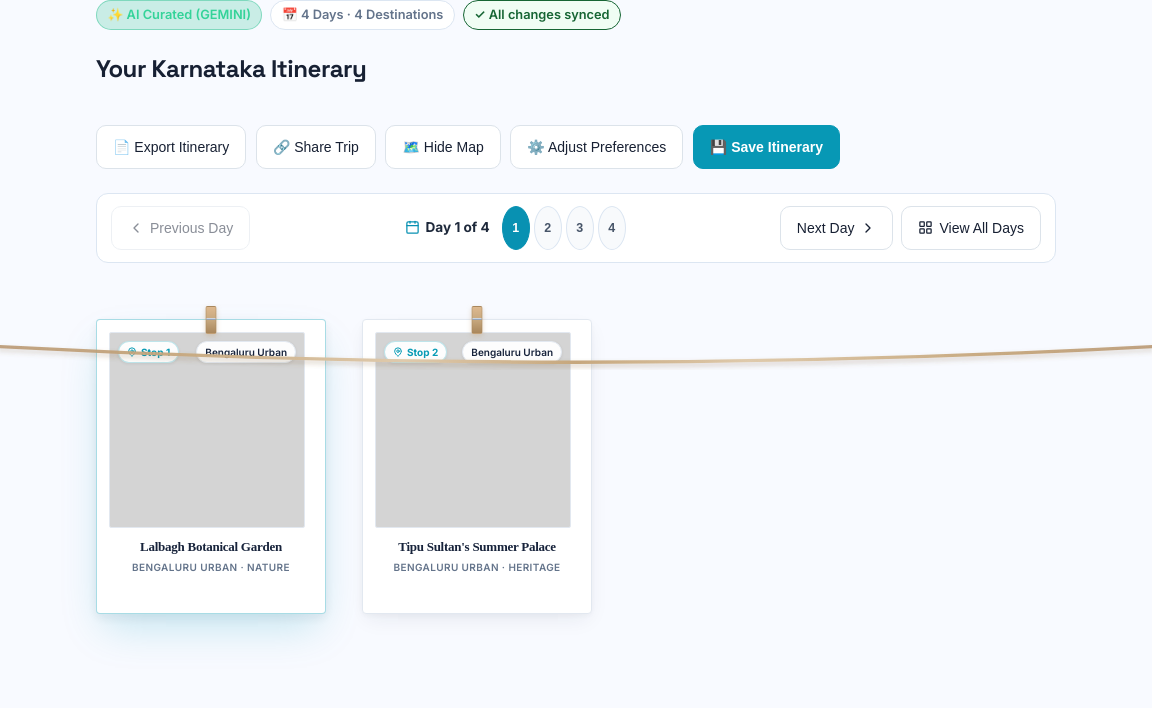
Test: Interactive Day-Wise Itinerary Redesign Experience › switches days using DayNavigation and dynamically updates carousel to show that day destinations
Expected: the button with test id "day-nav-prev-btn" is disabled, [111,206,250,250]
Expected: the heading "Lalbagh Botanical Garden" is shown, [140,539,282,554]
Switch to Day 2 using Next Day button
Click the button with test id "day-nav-next-btn": (837,228) [780,206,894,250]
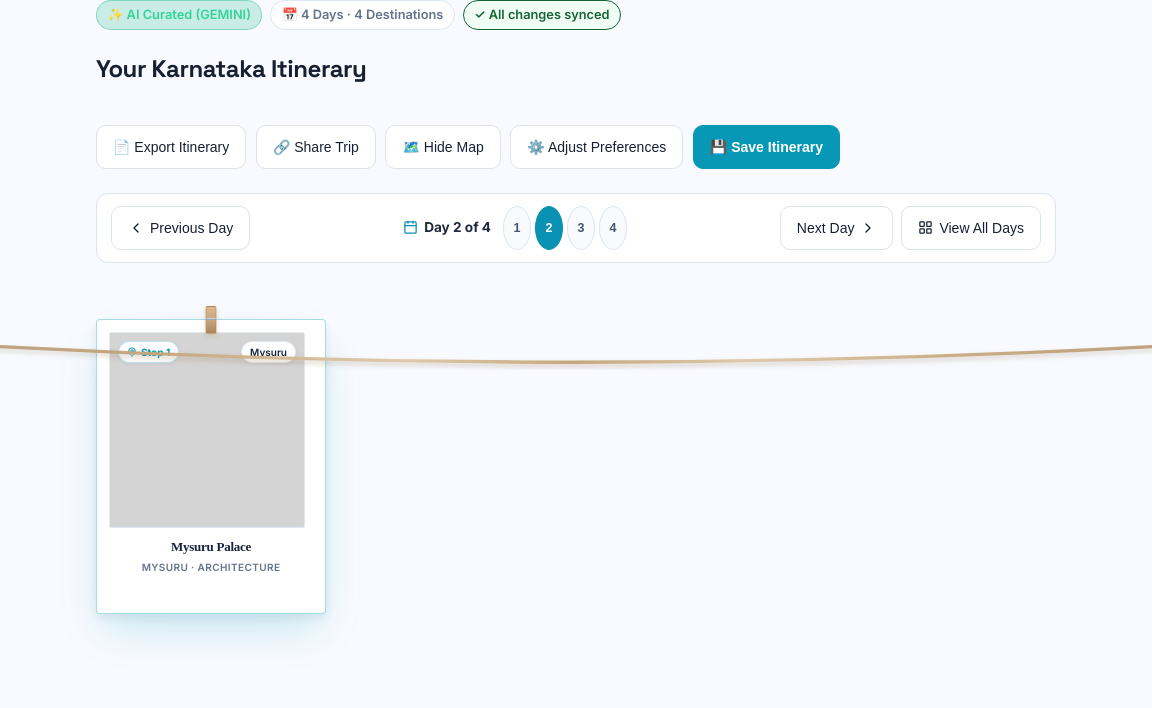
Result: the heading "Lalbagh Botanical Garden" is gone
Switch to Day 3 using Quick Jump chip
Click the button with test id "quick-day-jump-3": (581,228) [567,206,595,250]
(page scrolled)
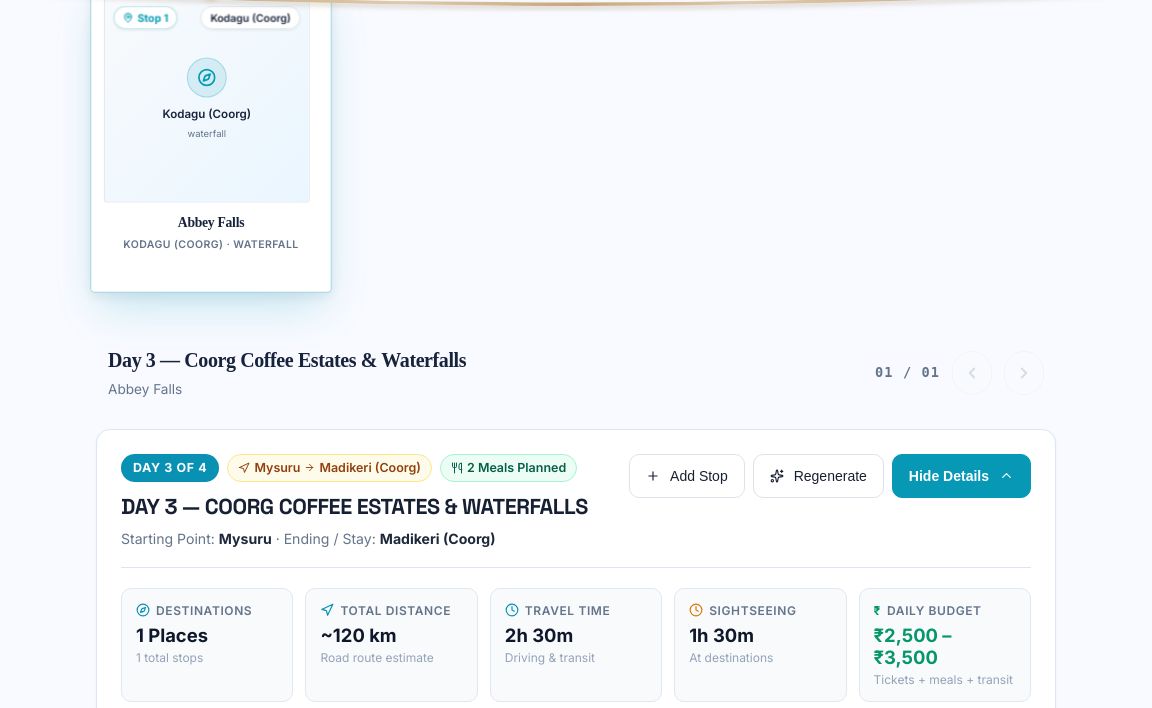
Result: the heading "Day 3 — Coorg Coffee Estates & Waterfalls" is shown at [108,344,466,376]
